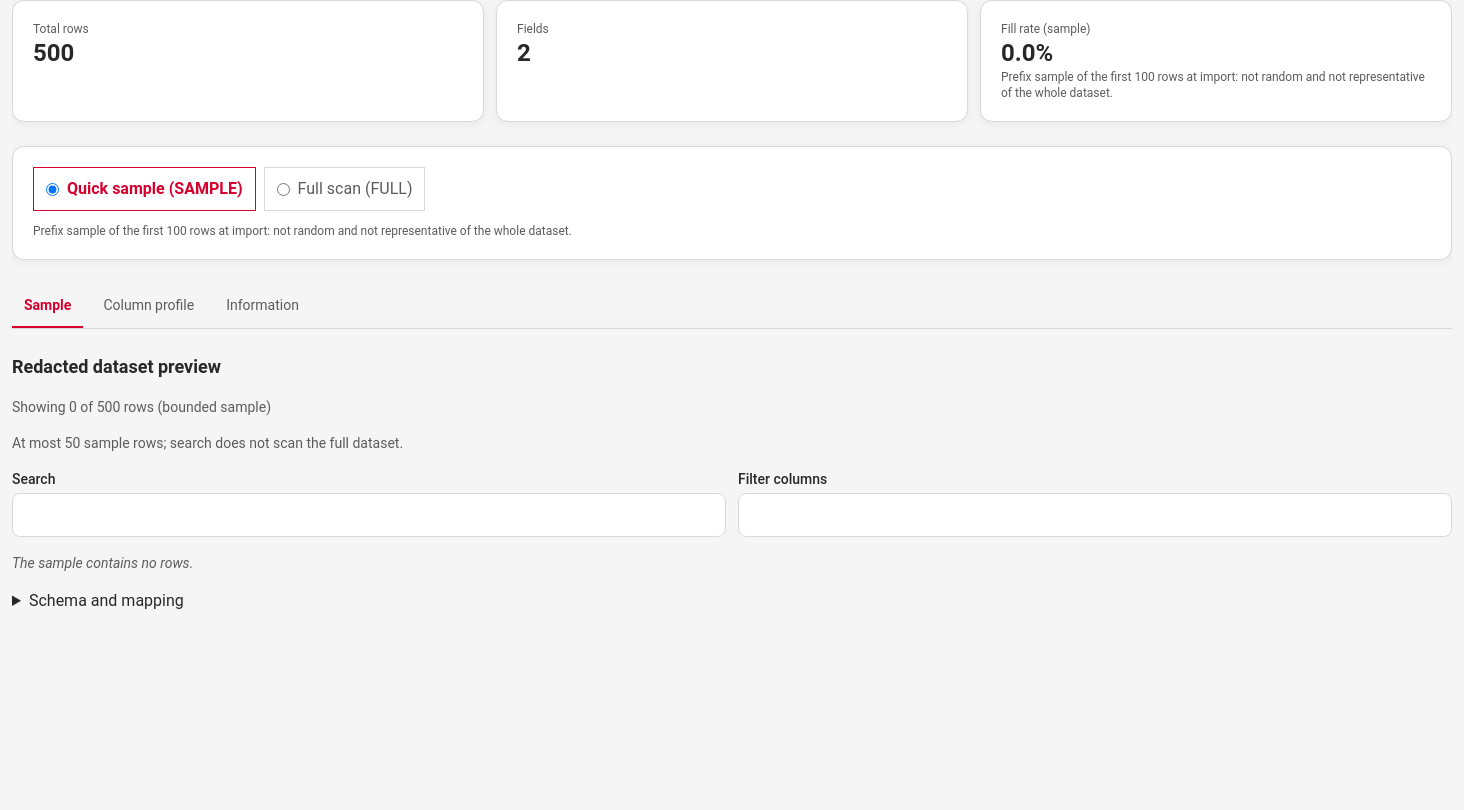
Test case: leaves parse success unavailable when a column has no non-null values
The width and height of the screenshot is (1464, 810).
Click the tab "Column profile" at (149, 306), box top-left (91, 284), bottom-right (206, 328)
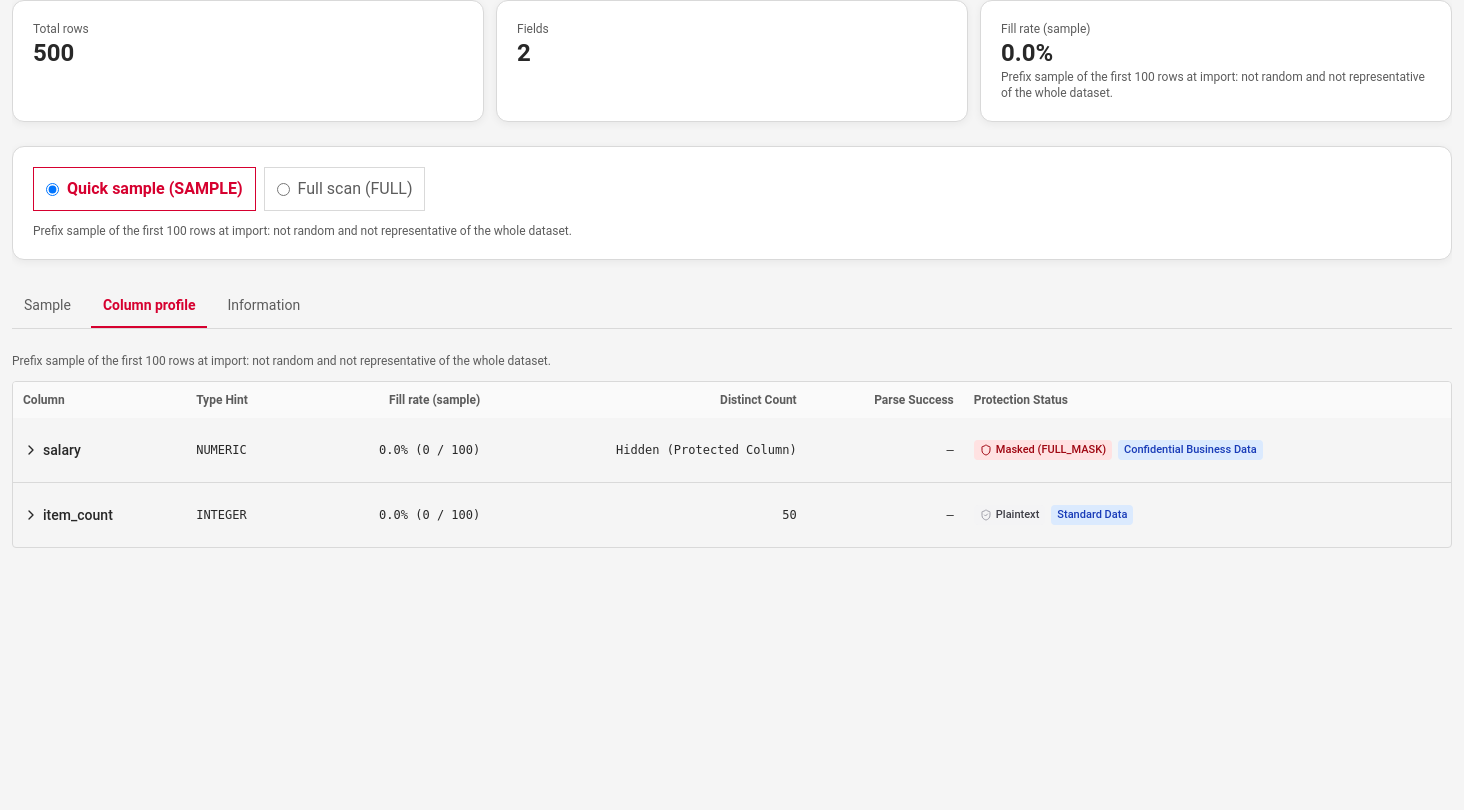
Check: the cell "—" in the row of "INTEGER" is shown, box top-left (947, 508), bottom-right (954, 522)
Check: the cell "0.0% (0 / 100)" next to "INTEGER" is shown, box top-left (379, 508), bottom-right (480, 522)
